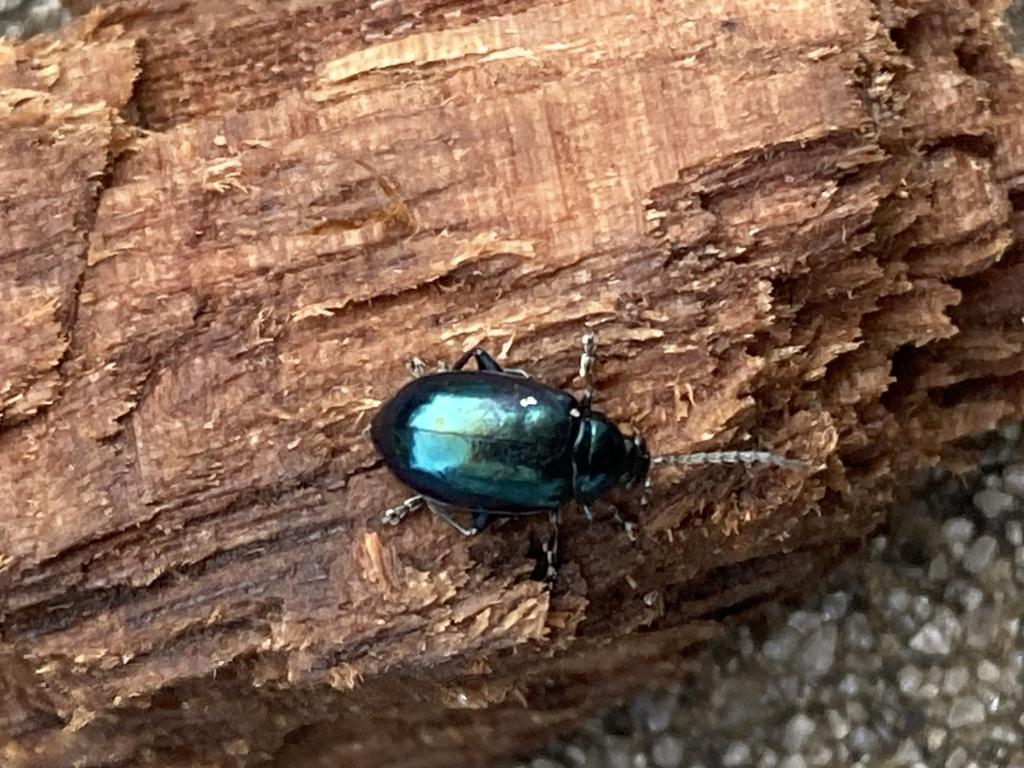flea_beetle: (331, 301, 809, 617)
